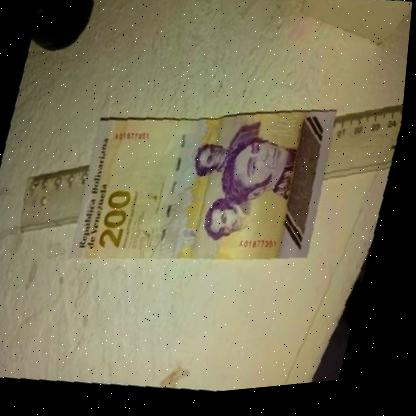two_hundred-front-vef: (59, 65, 356, 310)
